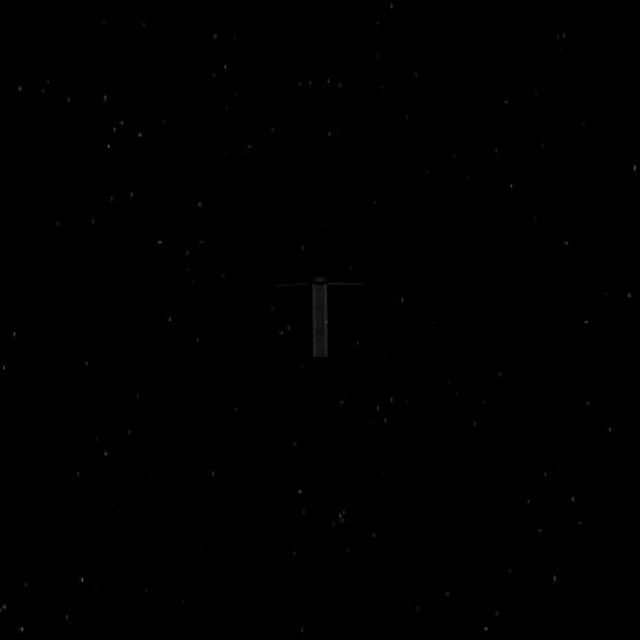medium_debris: (259, 264, 384, 358)
